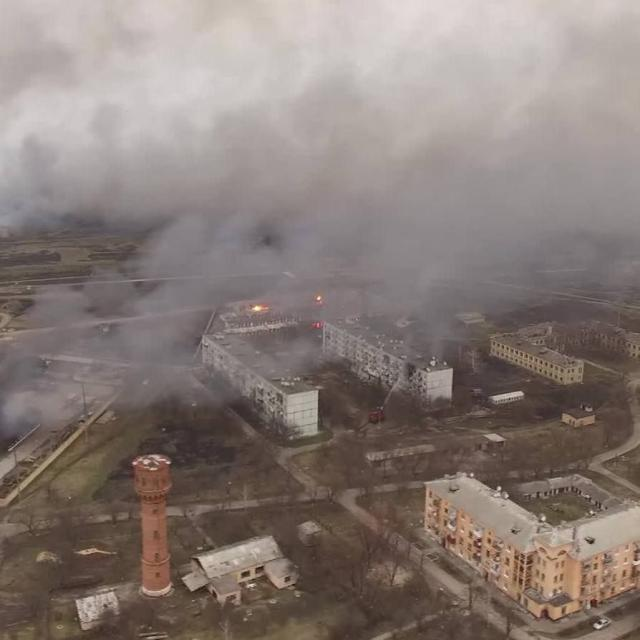Smoke: (44, 16, 611, 338)
